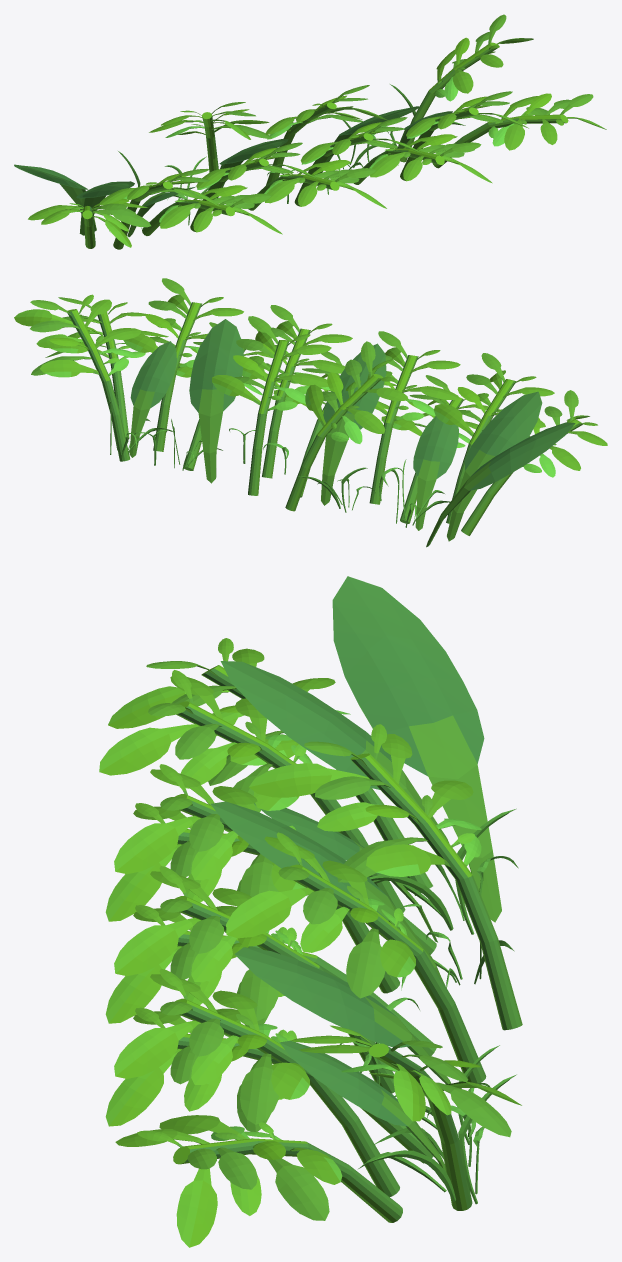
The model's file is buildig.002_green_(grass)_0.001_lev3.glb.
The picture shows the model from 3 angles, top to bottom: view 1: azimuth 30°, elevation 25°; view 2: azimuth 150°, elevation 25°; view 3: azimuth 270°, elevation 25°; orthographic projection. The views are drawn at different scales.
Visible parts, largest first — view 1: buildig.002_green_(grass)_0.001_lev3; view 2: buildig.002_green_(grass)_0.001_lev3; view 3: buildig.002_green_(grass)_0.001_lev3.
Boxes of the visible parts, bbox=[...] form: buildig.002_green_(grass)_0.001_lev3: bbox=[14, 14, 606, 249]; buildig.002_green_(grass)_0.001_lev3: bbox=[14, 278, 607, 547]; buildig.002_green_(grass)_0.001_lev3: bbox=[99, 576, 522, 1247].
Bounding box in the file's own units: 0.8421 × 0.203 × 0.2795.
Materials: 1 (1 with a texture image).
